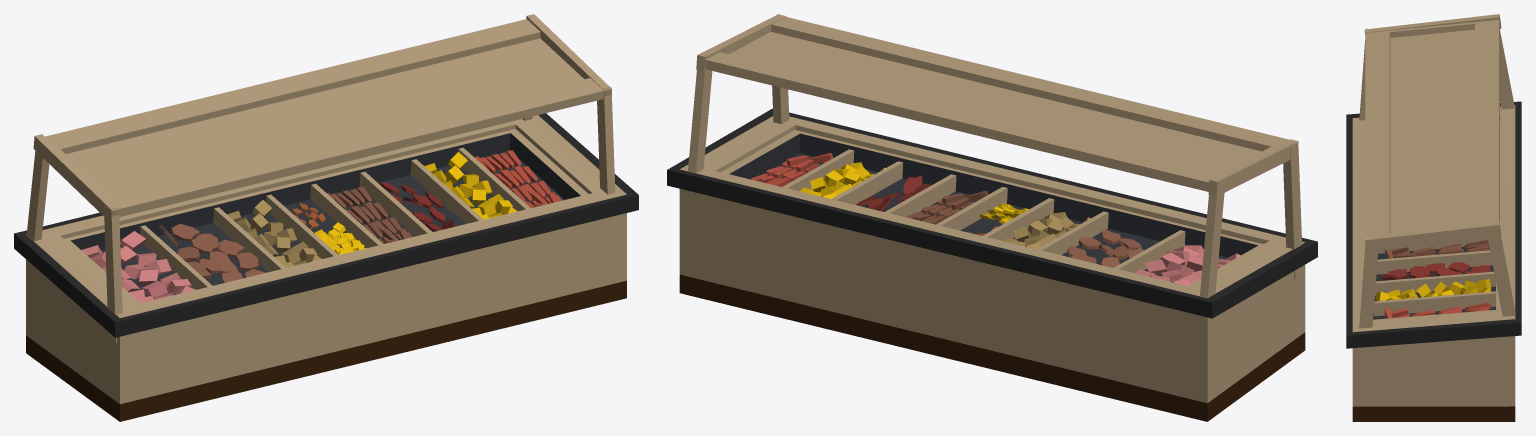
The model's file is Butcher.fbx.
The picture shows the model from 3 angles, left to right: view 1: azimuth 30°, elevation 25°; view 2: azimuth 150°, elevation 25°; view 3: azimuth 270°, elevation 25°; orthographic projection. The views are drawn at different scales.
Parts seen in each view (by area): view 1: polySurface78; view 2: polySurface78; view 3: polySurface78.
Boxes of the visible parts, <box> form: polySurface78: <box>14,14,638,421</box>; polySurface78: <box>667,14,1317,421</box>; polySurface78: <box>1346,14,1521,421</box>.
Bounding box in the file's own units: 688 × 281 × 231.
9 materials, 1 textured.
